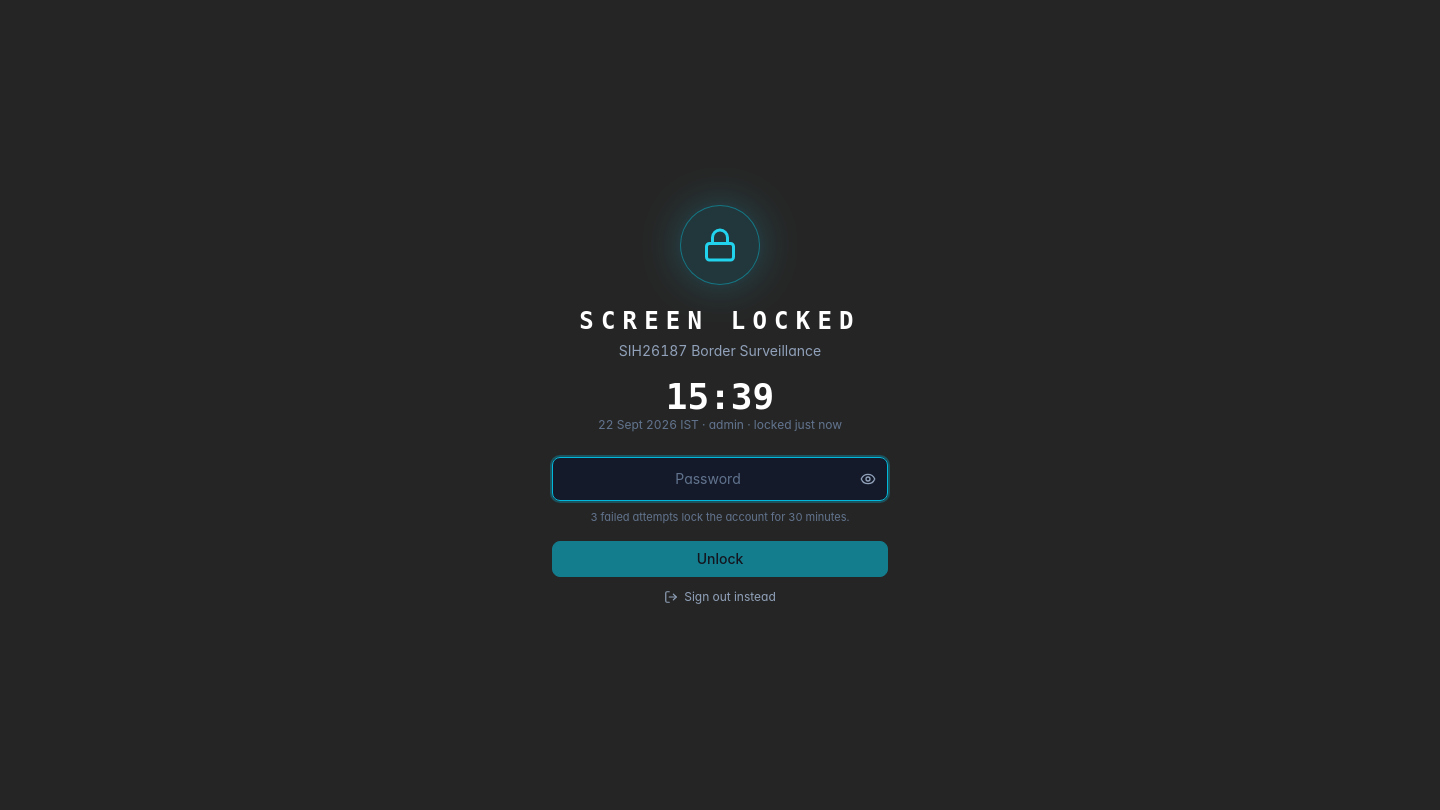
Test: ScreenLock › stays locked on a wrong password
This screenshot has width=1440, height=810.
In the password field with test id "unlock-password": (720, 479) [552,457,888,501], type "nope"
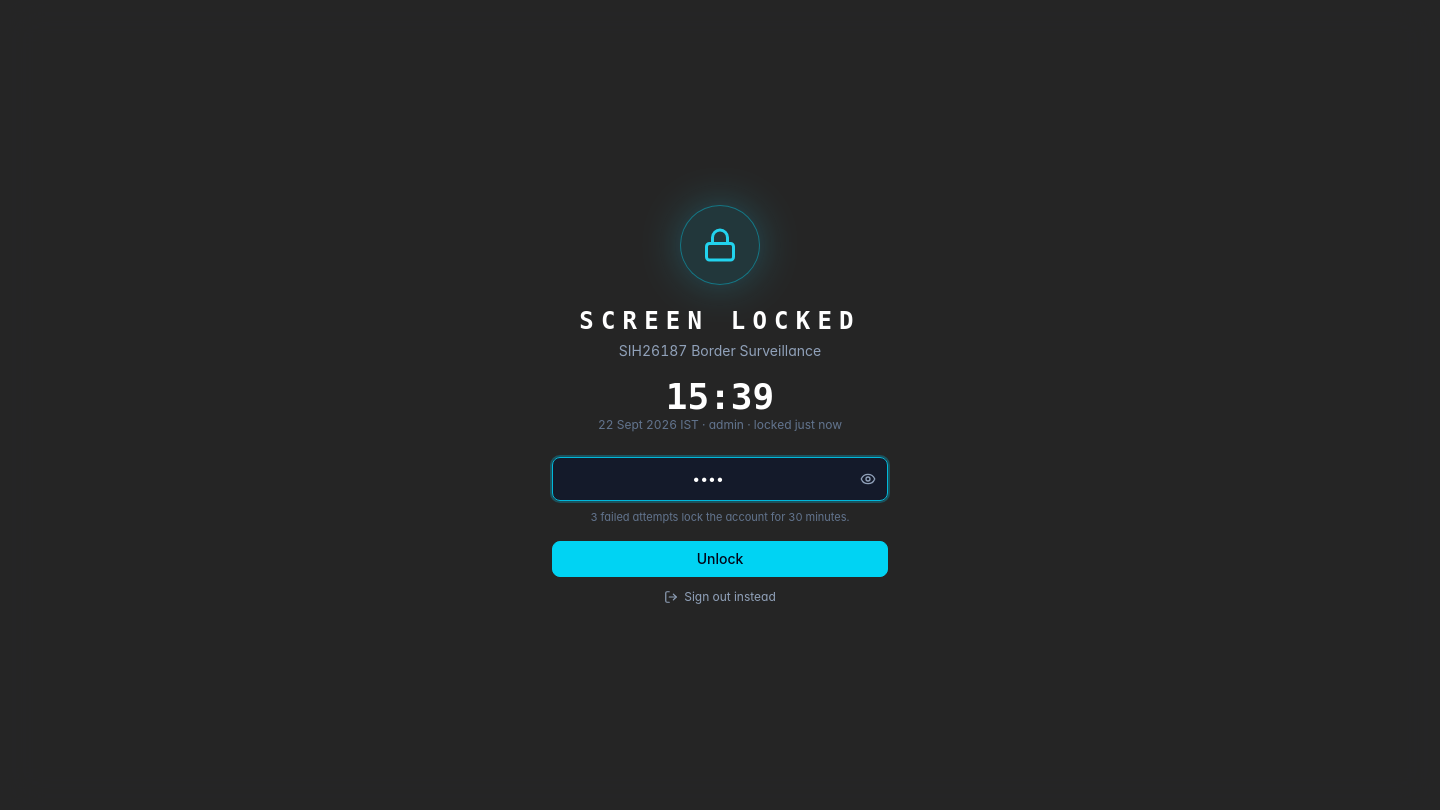
Click the button with test id "unlock-submit": (720, 559) [552,541,888,577]
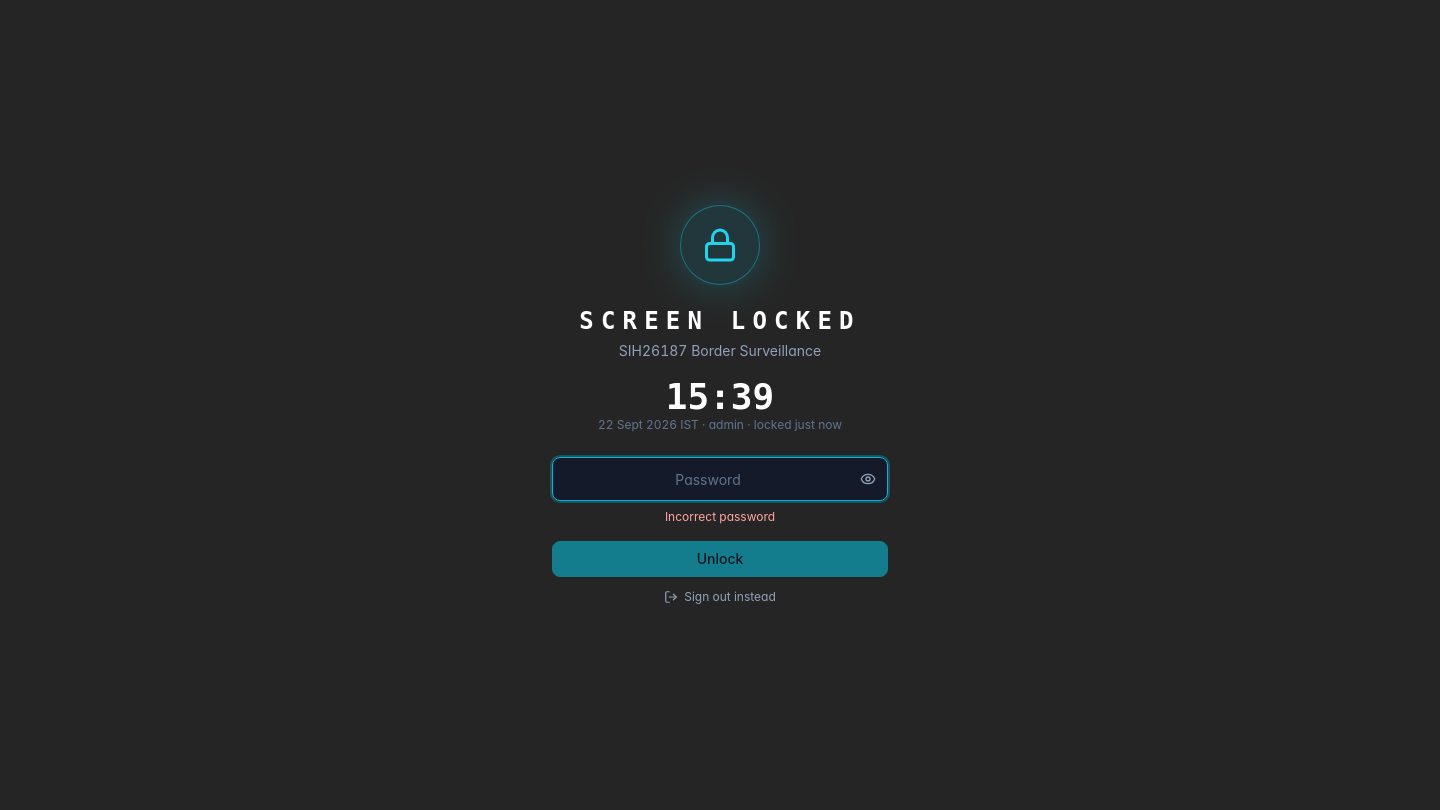
Result: the message reads "Incorrect password" at [665,509,775,524]
